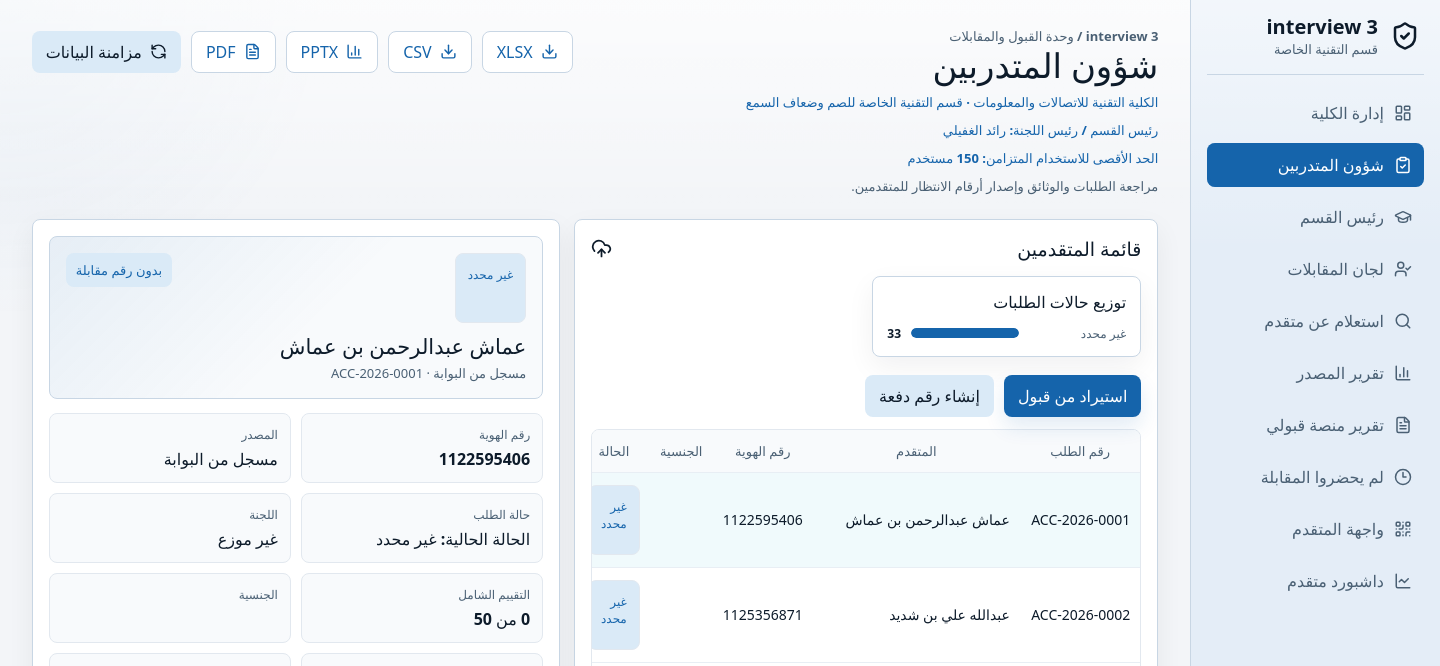
Test: Interview management system › shows the advanced enterprise dashboard with filters and saved preferences
Click the button "داشبورد متقدم" at coordinates (1316, 581), box [1207,559,1424,603]
(page scrolled)
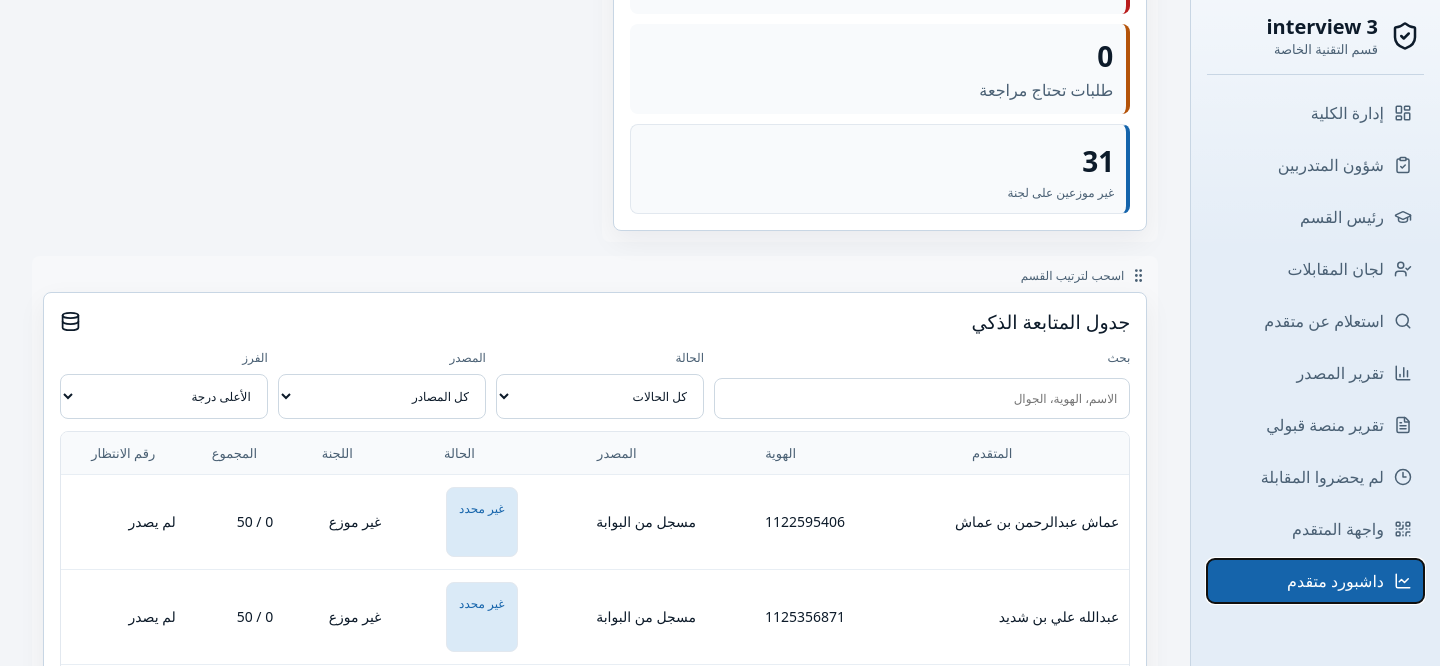
Expected: the heading "جدول المتابعة الذكي" is shown, [972,309,1130,335]
Type "سالم عبدالله بن محمد" into the field named "بحث الداشبورد" at coordinates (922, 398), box [714,378,1130,419]
(page scrolled)
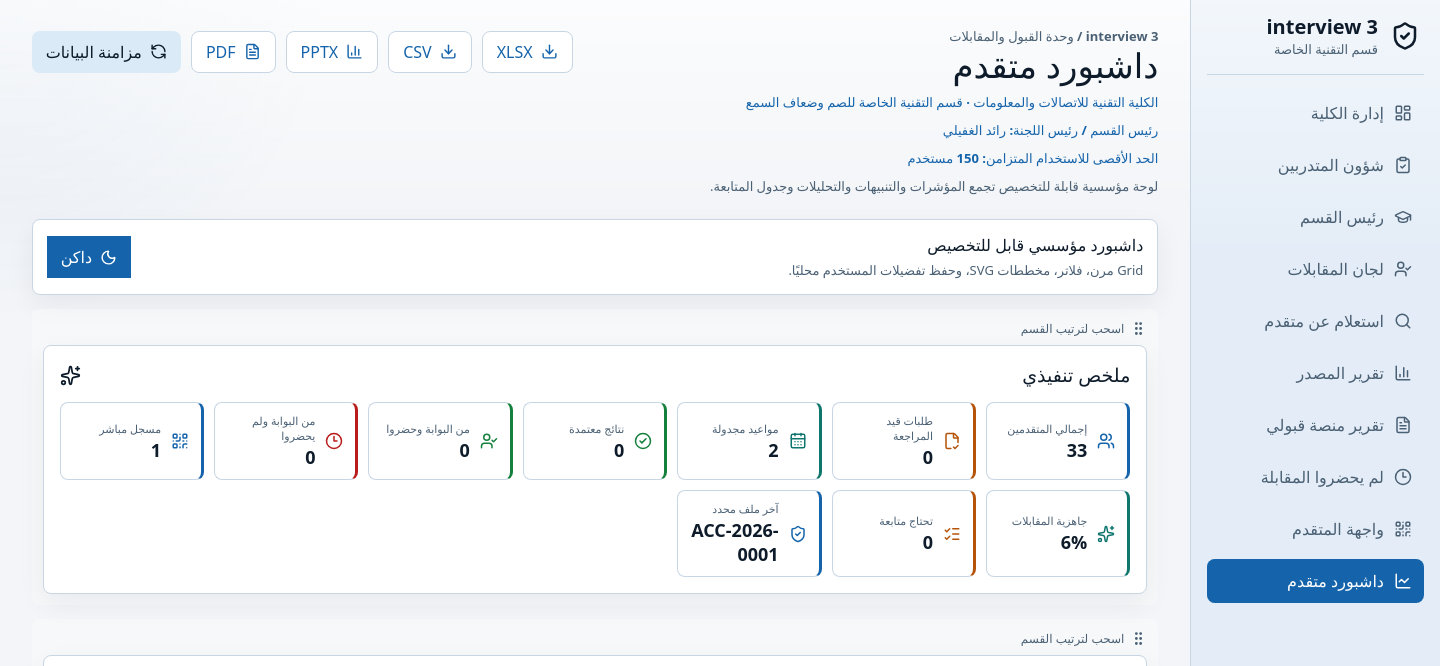
Click the button "داكن" at coordinates (89, 257), box [47,236,131,278]
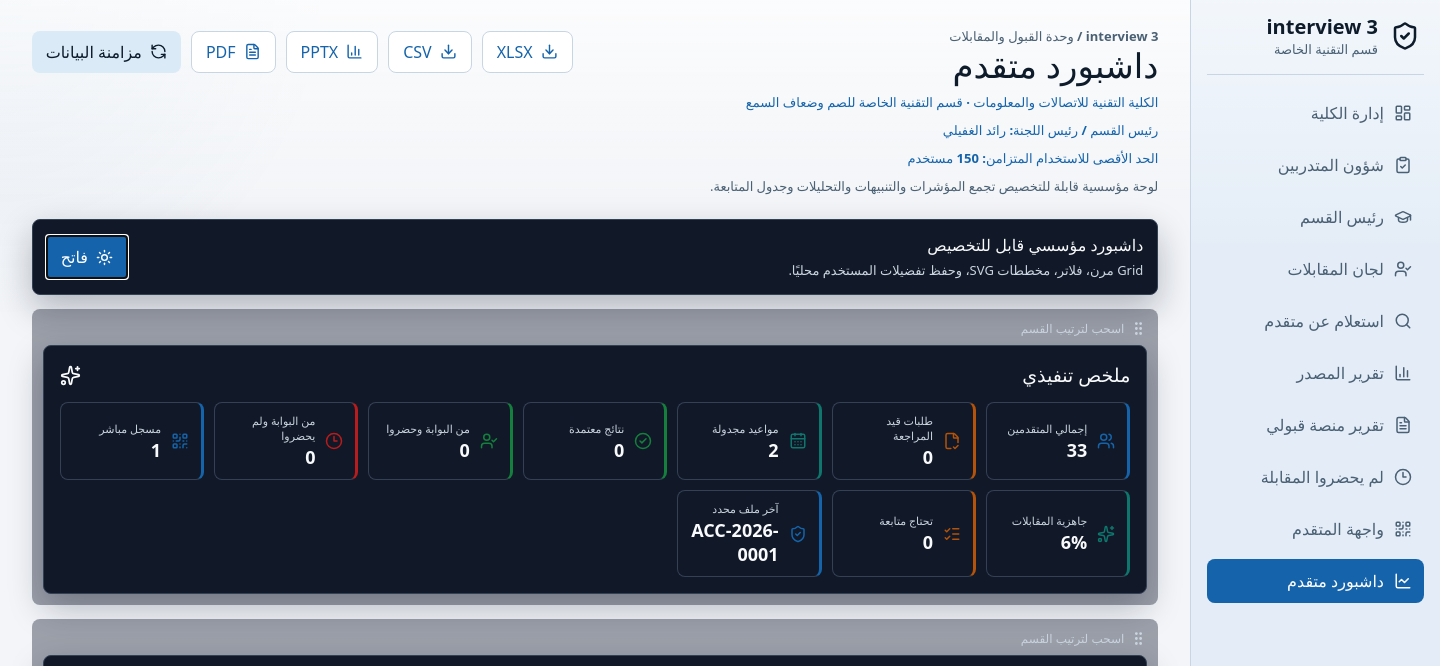
Expected: the button "فاتح" is shown, [47,236,127,278]
